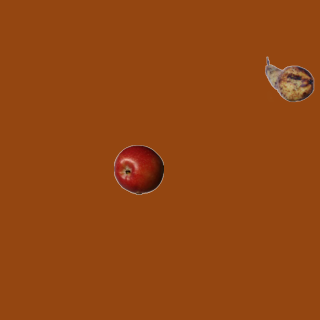Apple Braeburn: (113, 144, 163, 194)
Pear Abate: (264, 54, 314, 104)
